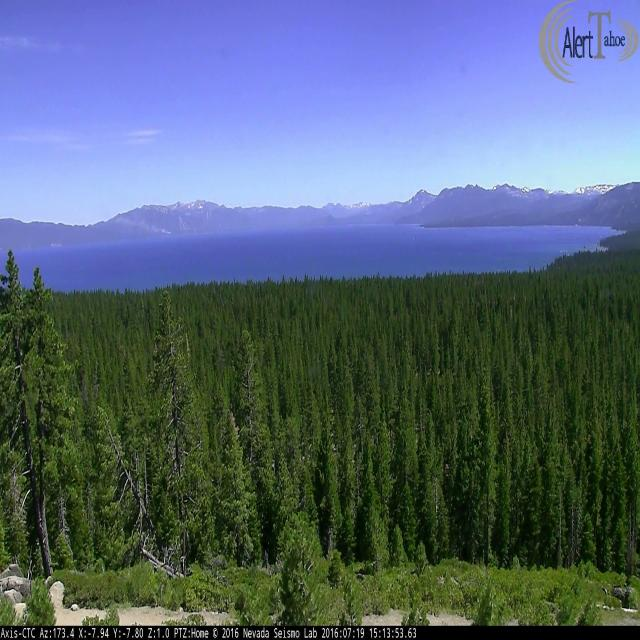smoke: (115, 211, 173, 236)
